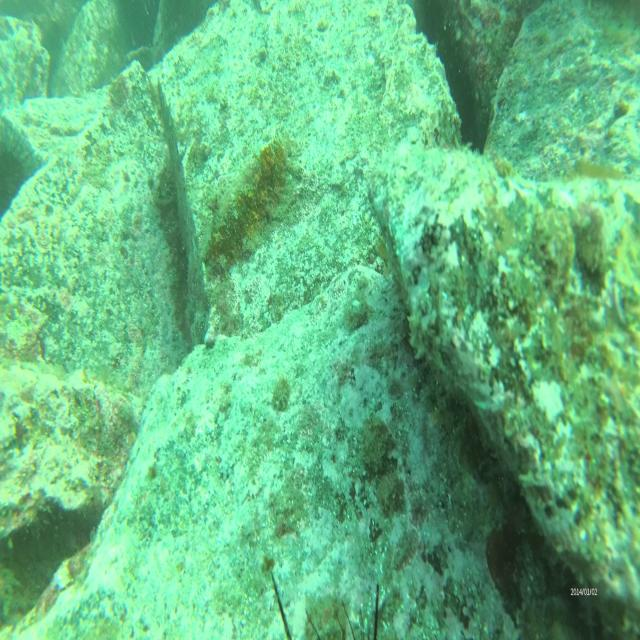echinus: (1, 126, 33, 227)
